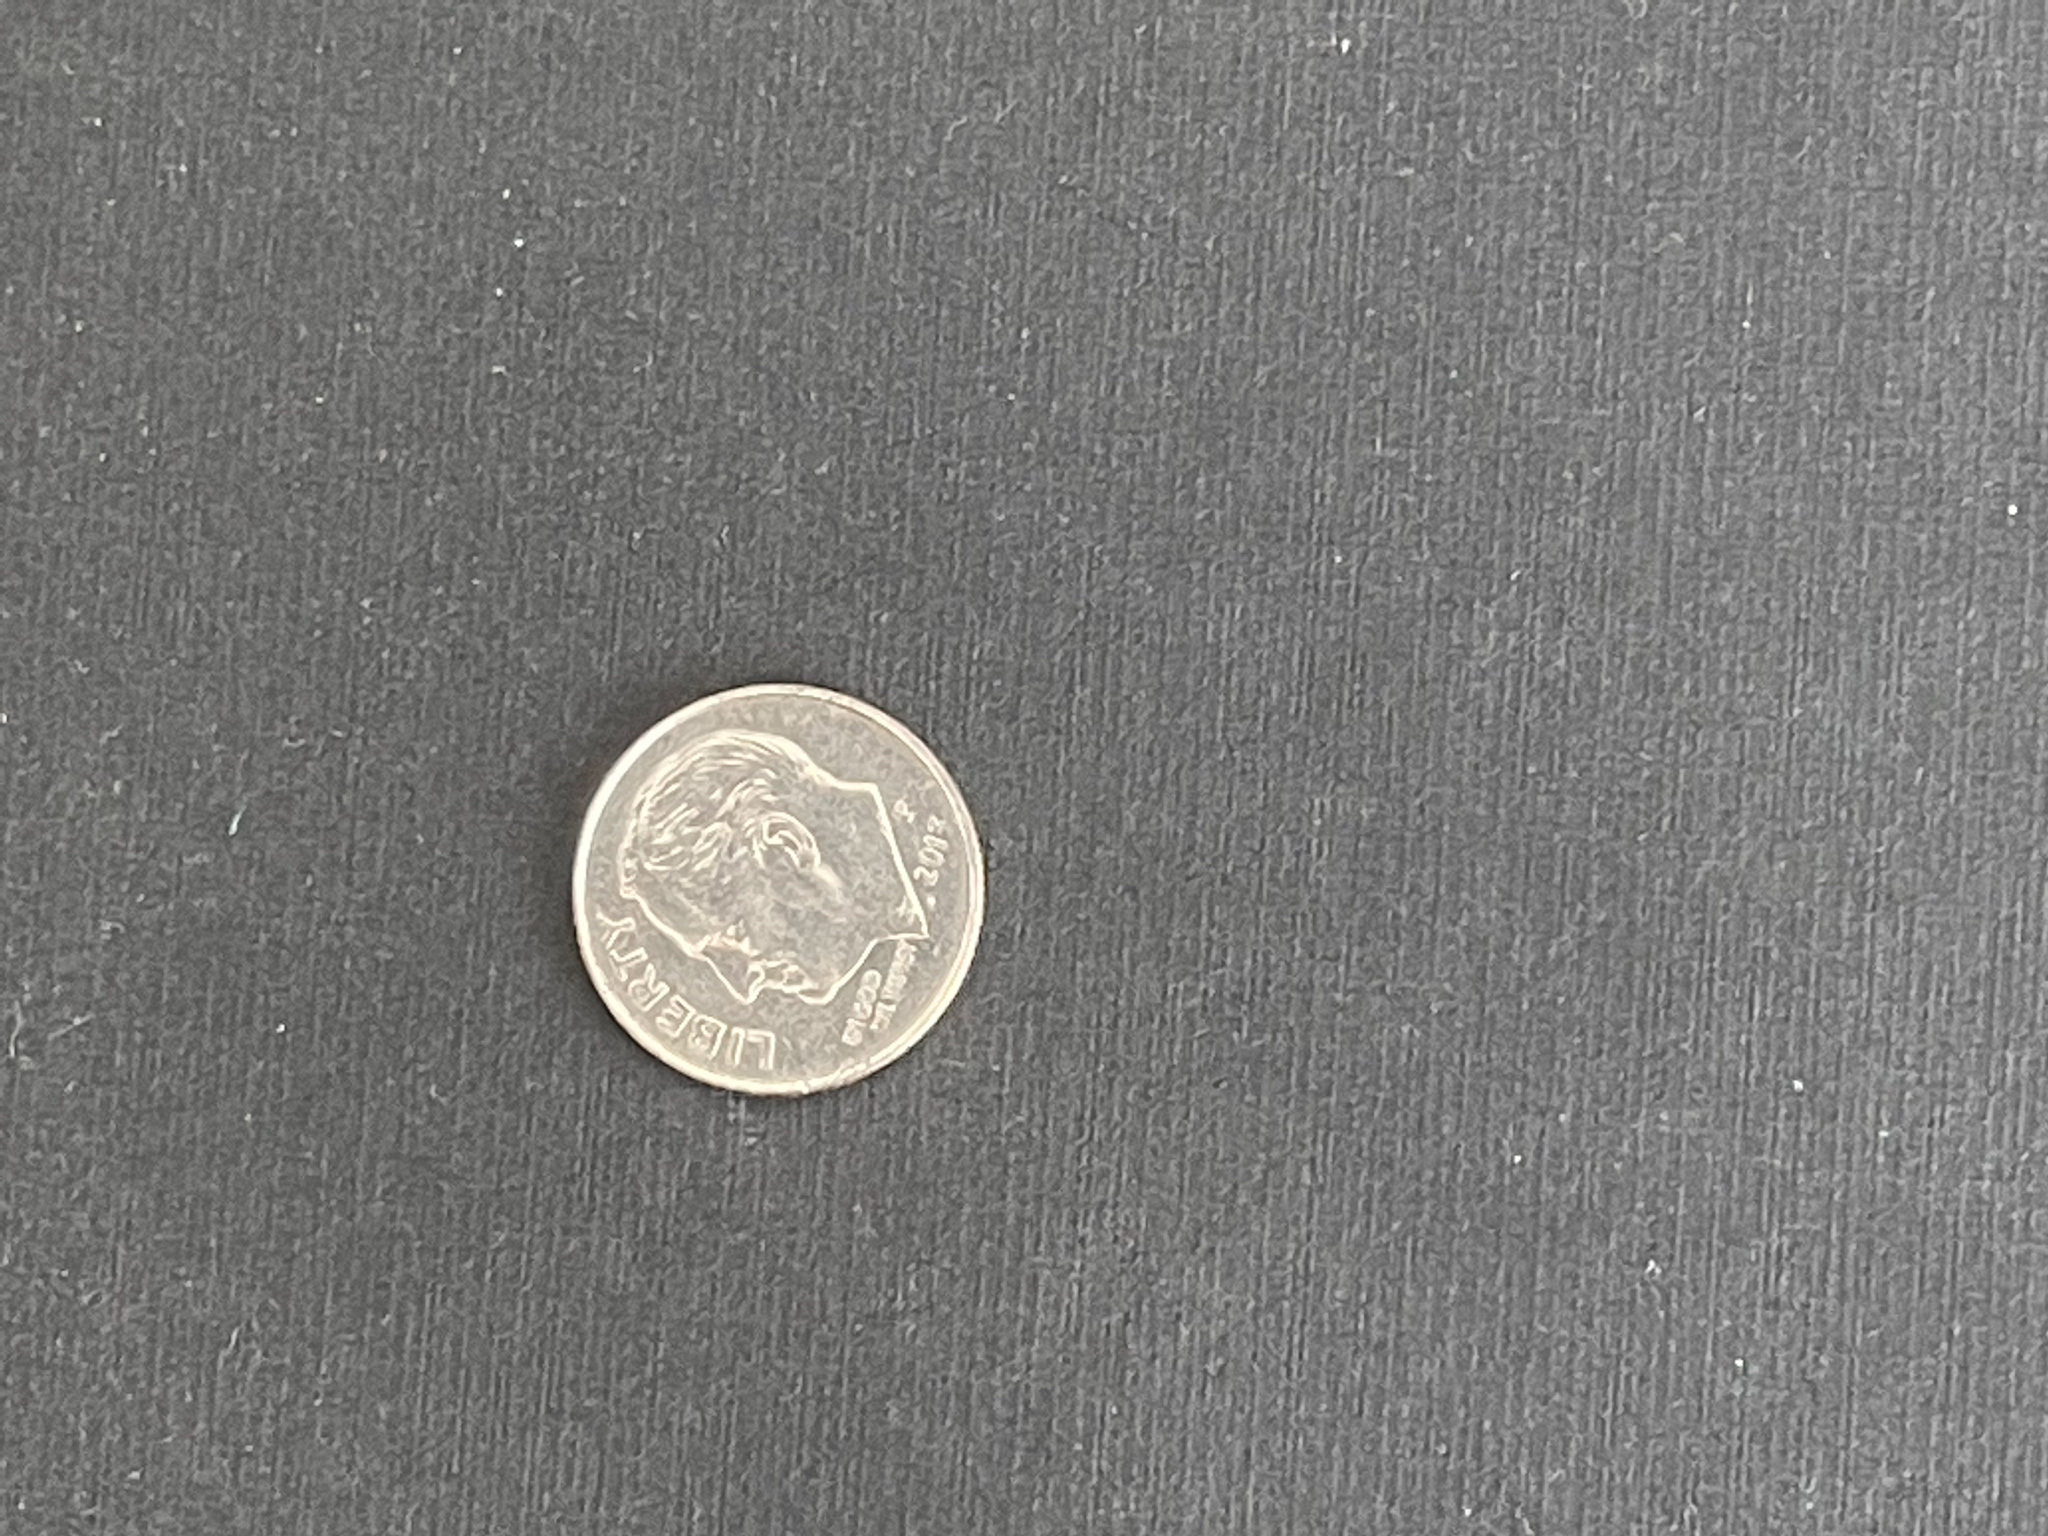dime: (561, 678, 997, 1100)
